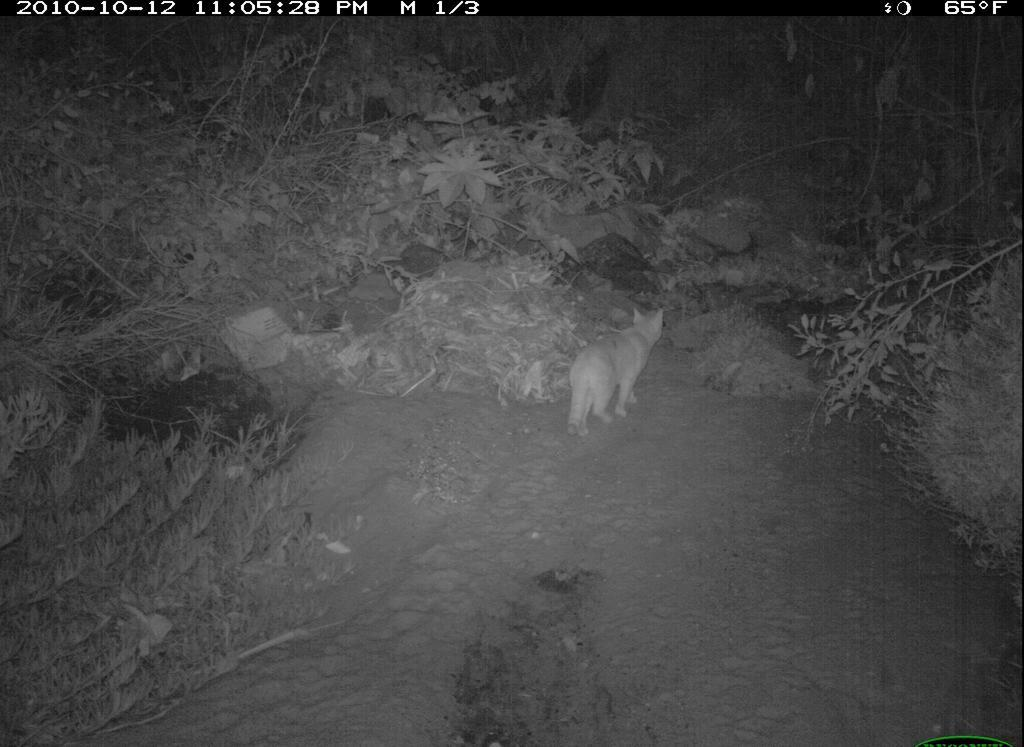cat: (562, 260, 684, 463)
